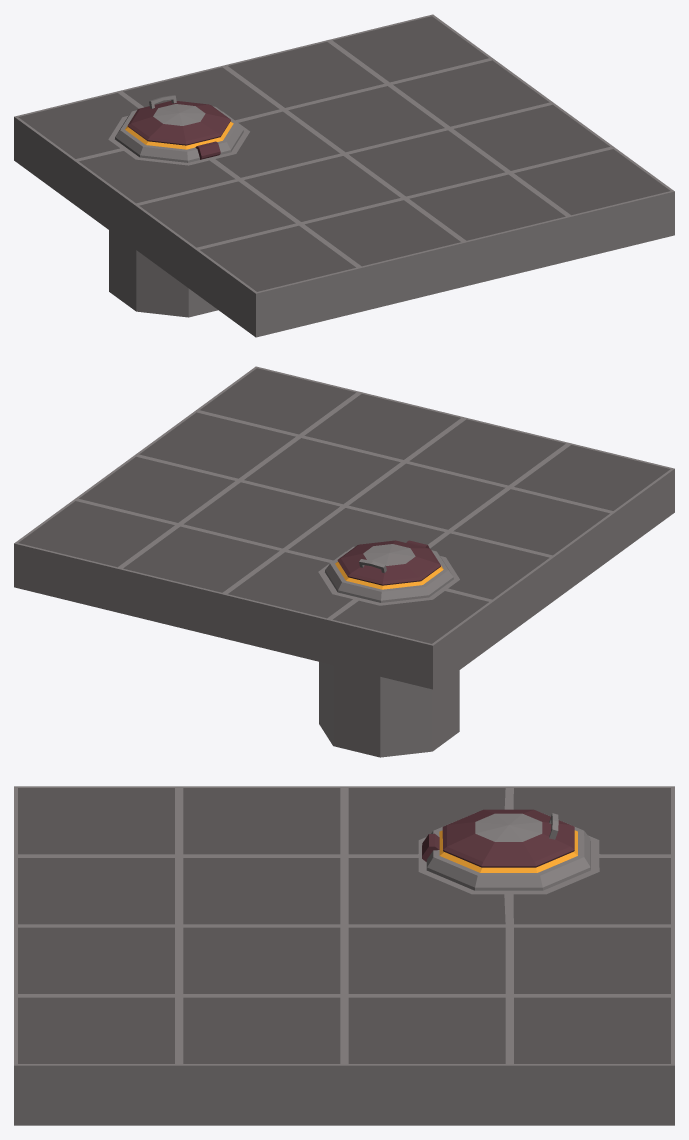
File: scifi-floor-manhole.fbx
The picture shows the model from 3 angles, top to bottom: view 1: azimuth 30°, elevation 25°; view 2: azimuth 150°, elevation 25°; view 3: azimuth 270°, elevation 25°; orthographic projection. The views are drawn at different scales.
Visible parts, largest first — view 1: scifi-floor-manhole-base, scifi-floor-manhole-cover; view 2: scifi-floor-manhole-base, scifi-floor-manhole-cover; view 3: scifi-floor-manhole-base, scifi-floor-manhole-cover.
Part boxes in pixels (x1,y1,x2,y2): scifi-floor-manhole-base: (14, 14, 674, 337); scifi-floor-manhole-cover: (115, 95, 243, 162); scifi-floor-manhole-base: (14, 366, 674, 757); scifi-floor-manhole-cover: (325, 540, 453, 602); scifi-floor-manhole-base: (14, 786, 674, 1125); scifi-floor-manhole-cover: (422, 809, 590, 890).
Bounding box in the file's own units: 4 × 1.63 × 4.
